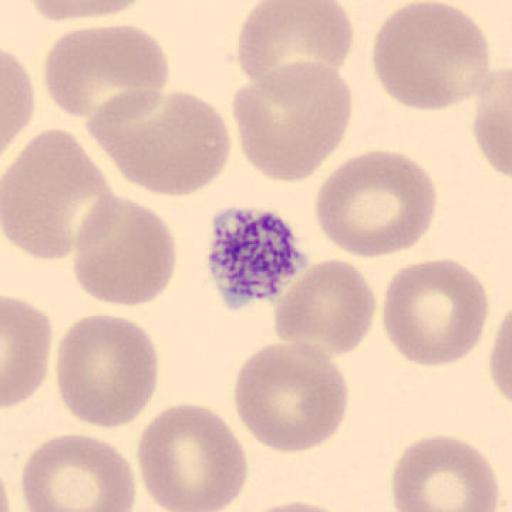Platelet: (204, 206, 312, 310)
RBC: (86, 88, 233, 198), (0, 128, 114, 263), (231, 60, 354, 184), (314, 148, 438, 260), (370, 0, 492, 113), (232, 339, 350, 455), (135, 400, 248, 512), (42, 23, 170, 121), (381, 256, 491, 370), (54, 312, 159, 430), (72, 194, 178, 307), (236, 0, 356, 92), (272, 257, 378, 359), (20, 432, 136, 512), (391, 433, 499, 512), (2, 295, 52, 409), (472, 62, 512, 181), (2, 48, 36, 152), (28, 0, 150, 21), (489, 306, 512, 409), (234, 499, 356, 512)
